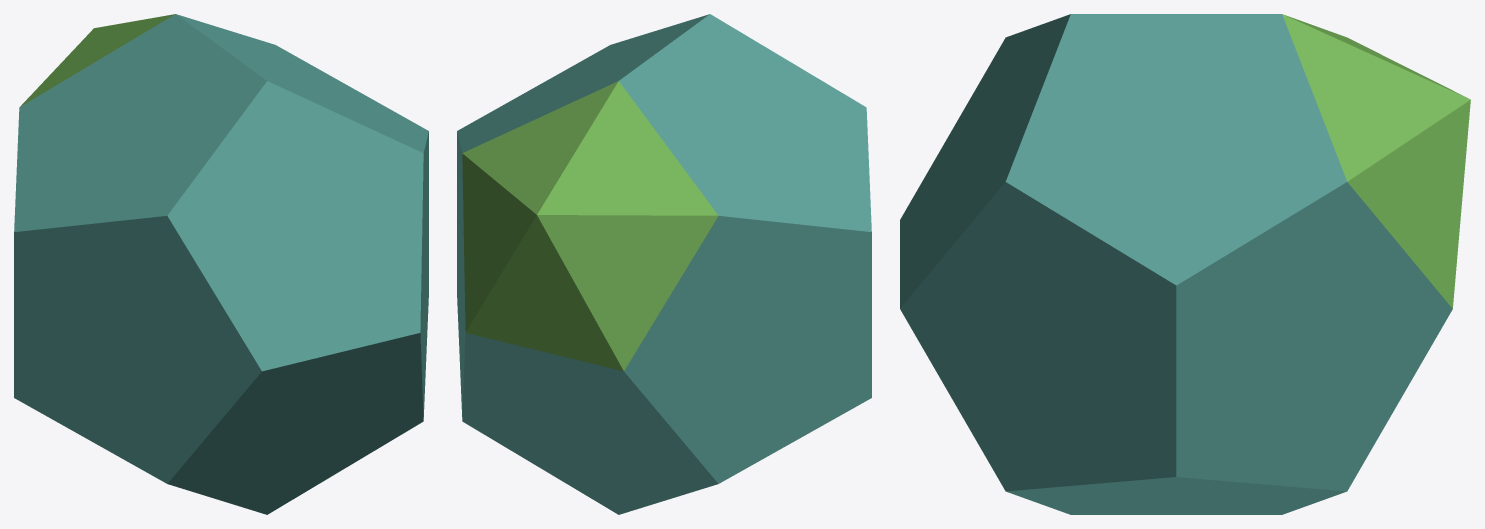
Rendered from J58.DodecaedroAumentado.gltf.
3 renders of one model, left to right at view 1: azimuth 30°, elevation 25°; view 2: azimuth 150°, elevation 25°; view 3: azimuth 270°, elevation 25°, orthographic. The views are drawn at different scales.
Visible parts, largest first — view 1: J58.DodecaedroAumentado; view 2: J58.DodecaedroAumentado; view 3: J58.DodecaedroAumentado.
Boxes of the visible parts, x1,y1,x2,y2 form: J58.DodecaedroAumentado: [14, 14, 428, 514]; J58.DodecaedroAumentado: [457, 14, 871, 514]; J58.DodecaedroAumentado: [900, 14, 1470, 514].
Bounding box in the file's own units: 15.97 × 15.97 × 16.49.
